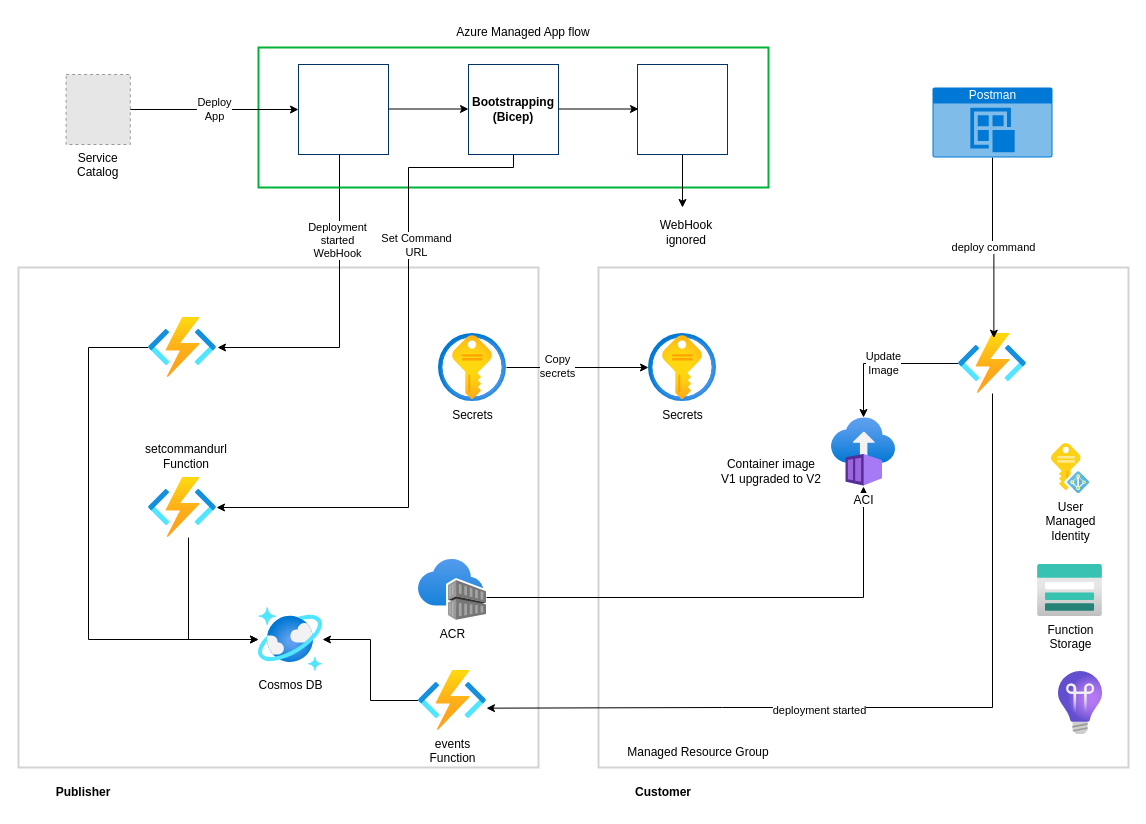
Some shapes in this 1146 by 824 pixel diagram are drawn without their labels. Grey dashed boxes stand in for pictures. The centre of each missing label's shape, as x and y in pixels:
Bootstrapping complete: (x=682, y=109)
Bootstrapping Starts: (x=343, y=109)
command Function: (x=992, y=363)
Logs: (x=1080, y=702)
webhook Function: (x=182, y=347)
